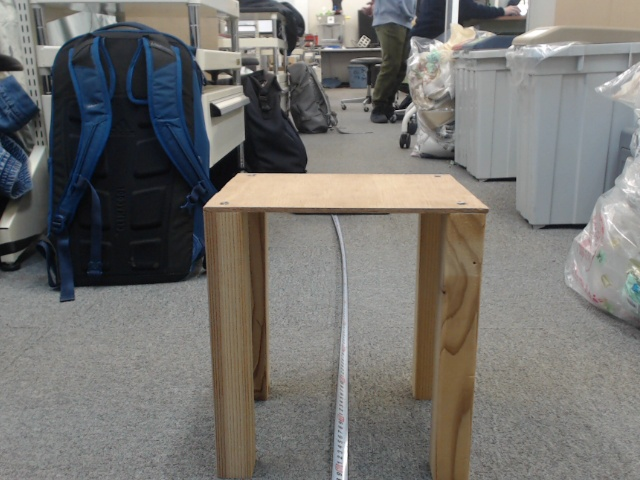desk: (255, 141, 480, 395)
